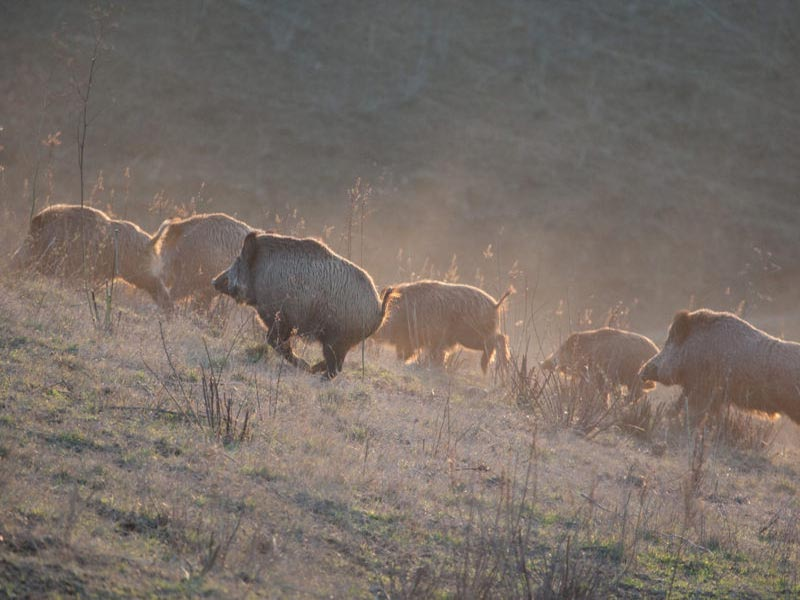cinghiale: (217, 229, 396, 381), (647, 305, 800, 445), (18, 203, 186, 311), (370, 274, 519, 383), (538, 319, 664, 406), (161, 210, 248, 299)
